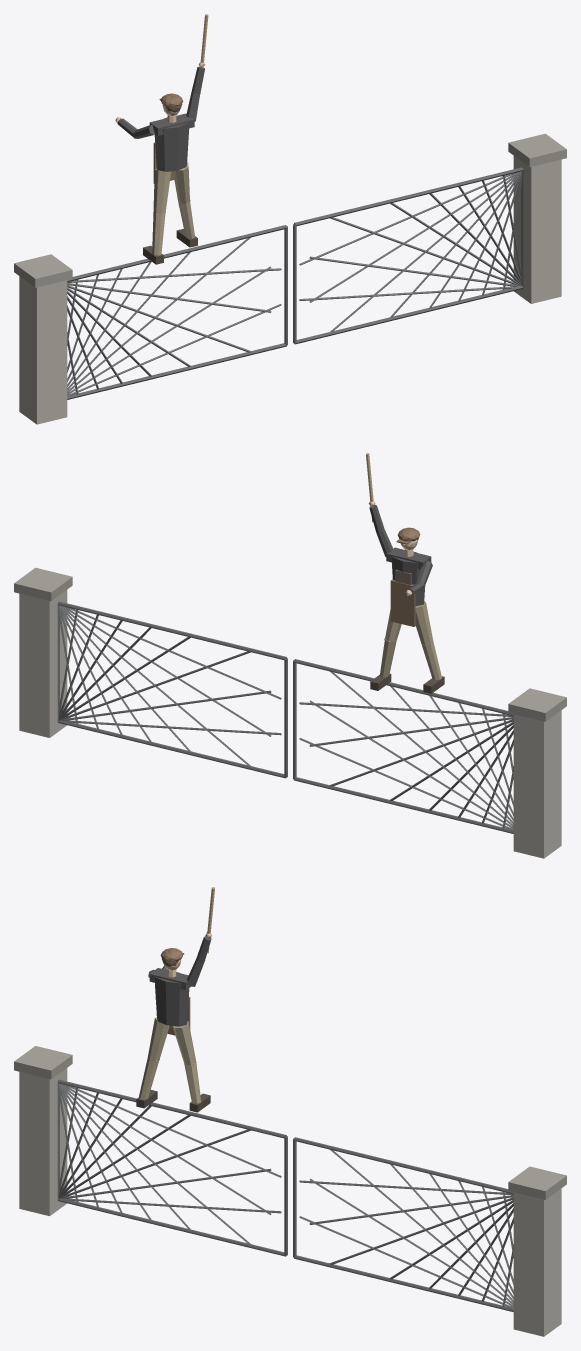
Rendered from shoemaker_auction_on_gate.glb.
3 views of the same model, one above another, from view 1: azimuth 30°, elevation 25°; view 2: azimuth 150°, elevation 25°; view 3: azimuth 330°, elevation 25° (orthographic).
Parts seen in each view (by area): view 1: iron, stone_lt, wool_black, stone, moleskin; view 2: iron, stone_lt, stone, wool_black, moleskin, leather; view 3: iron, stone_lt, stone, wool_black, moleskin.
Part boxes in pixels (x1,y1,x2,y2): iron: (67,167,523,399); stone_lt: (19,156,561,424); wool_black: (118,66,204,171); stone: (14,133,566,287); moleskin: (152,162,195,255); iron: (57,601,513,833); stone_lt: (19,590,561,858); stone: (14,567,566,721); wool_black: (369,505,432,605); moleskin: (379,601,441,679); leather: (390,527,420,626); iron: (57,1079,513,1311); stone_lt: (19,1068,561,1336); stone: (14,1046,566,1199); wool_black: (148,936,211,1026); moleskin: (139,1017,201,1103).
Bounding box in the file's own units: 6.28 × 4.03 × 0.7954.
